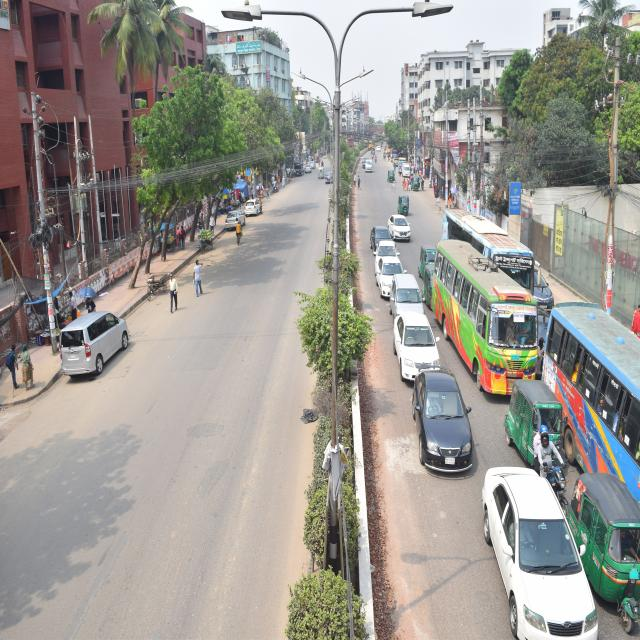bus: (541, 292, 640, 504), (431, 236, 546, 386), (442, 203, 536, 280)
car: (484, 465, 601, 640), (414, 367, 478, 479), (58, 308, 130, 379), (391, 312, 445, 374), (389, 273, 429, 320), (378, 257, 406, 299), (386, 210, 415, 244), (369, 220, 393, 250), (373, 237, 399, 261), (226, 206, 246, 231), (244, 197, 266, 218)
